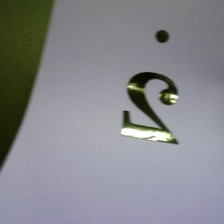violet2: (117, 25, 188, 150)
